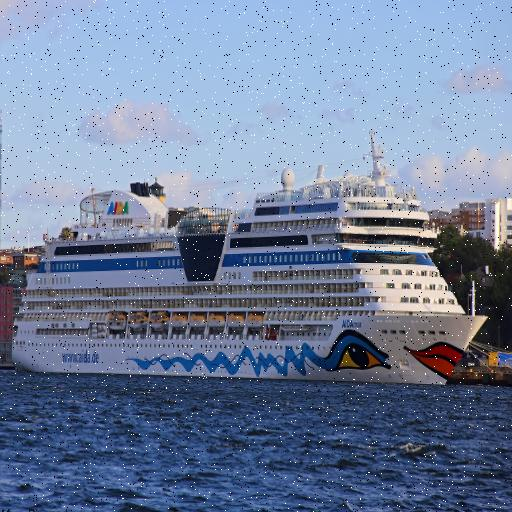cruises: (16, 138, 490, 392)
